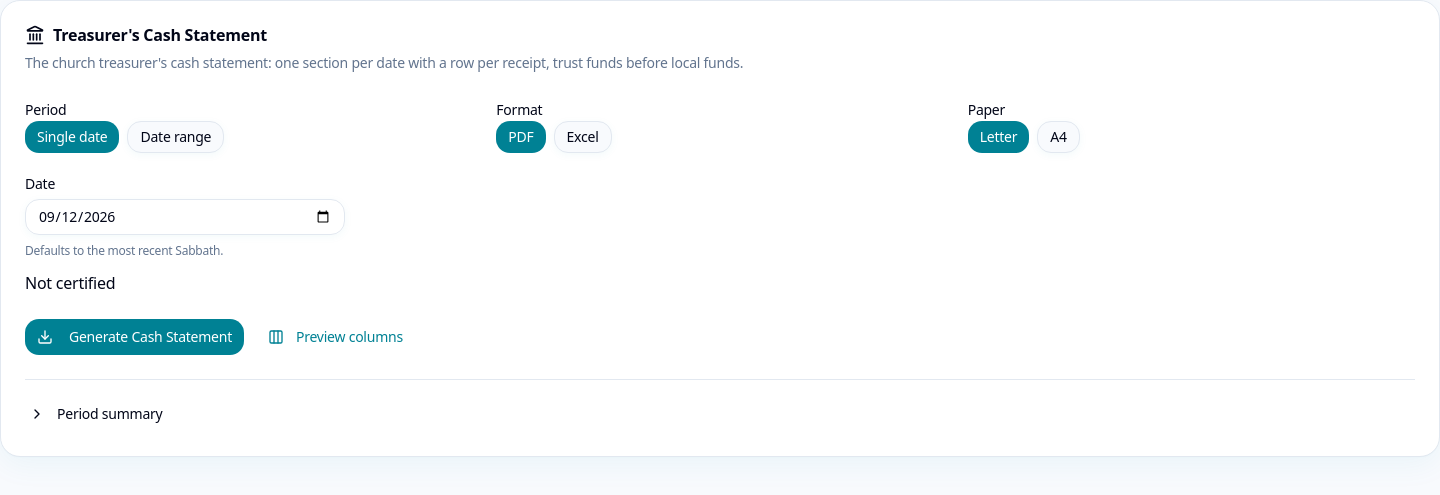
Test case: CashStatementExportCard › period summary › asks for a valid period instead of loading a summary for a bad range
The width and height of the screenshot is (1440, 495).
Step 1. Click the button "Period summary" → coordinates (96, 414), box [17, 396, 174, 432]
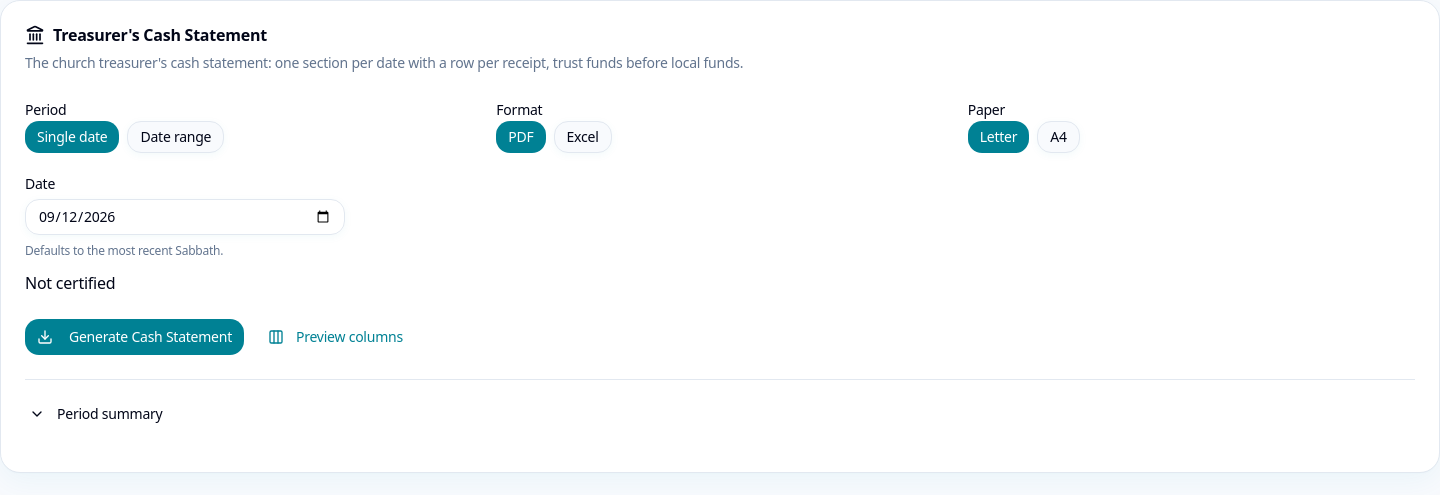
Step 2. Click the button "Date range" → coordinates (176, 137), box [128, 121, 224, 153]
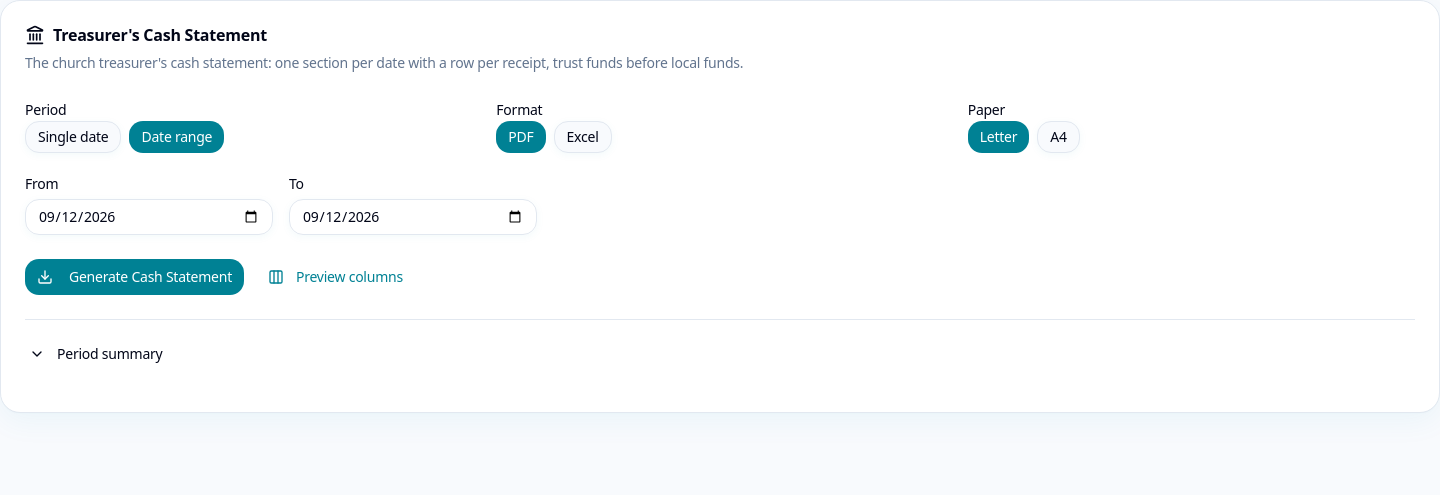
Step 3. Type "2026-01-01" into the date field labelled "To" → coordinates (413, 217), box [289, 199, 537, 235]
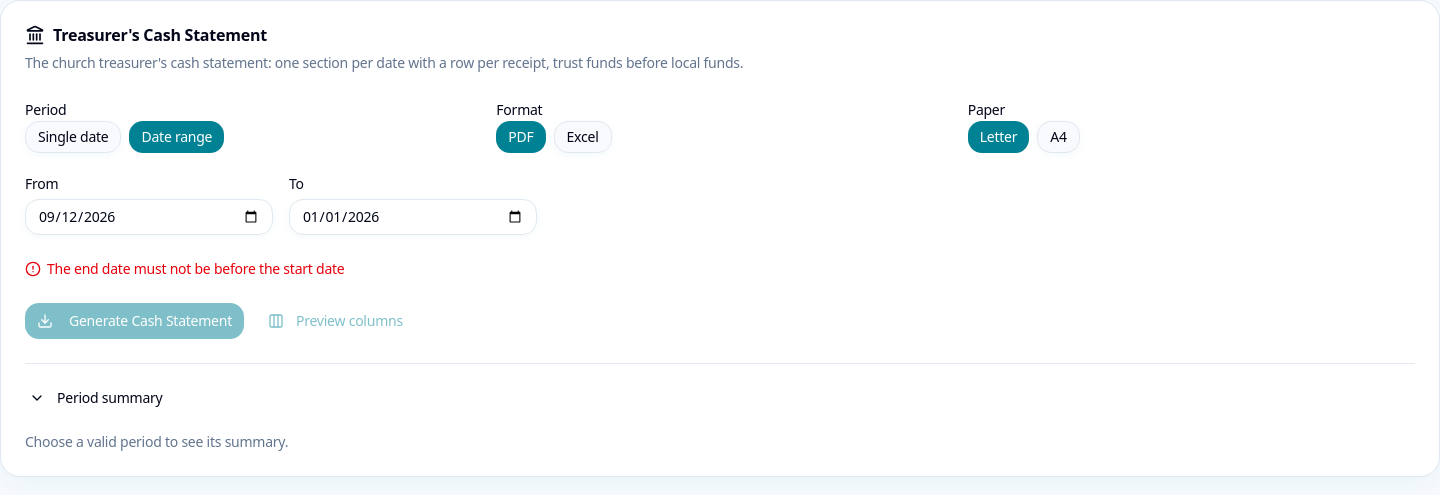
expect the text "Choose a valid period to see its summary." is shown: met, box [25, 432, 288, 451]
